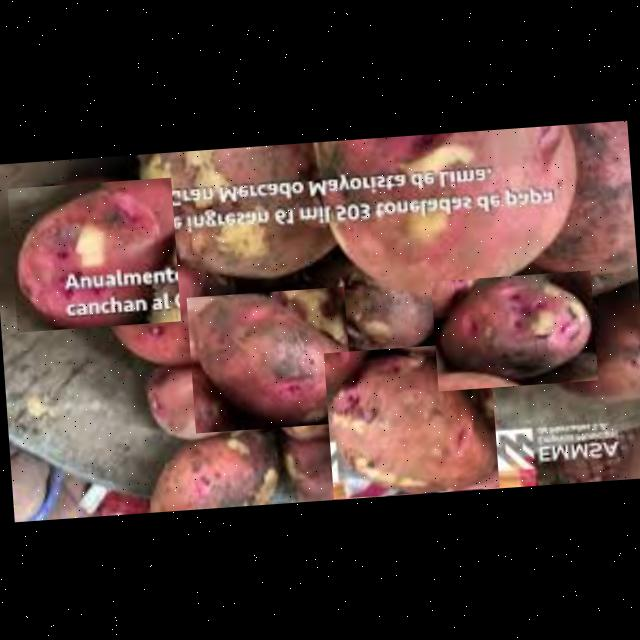Defected potato: (322, 340, 498, 498), (6, 176, 180, 331), (185, 285, 352, 432), (429, 269, 596, 390)
